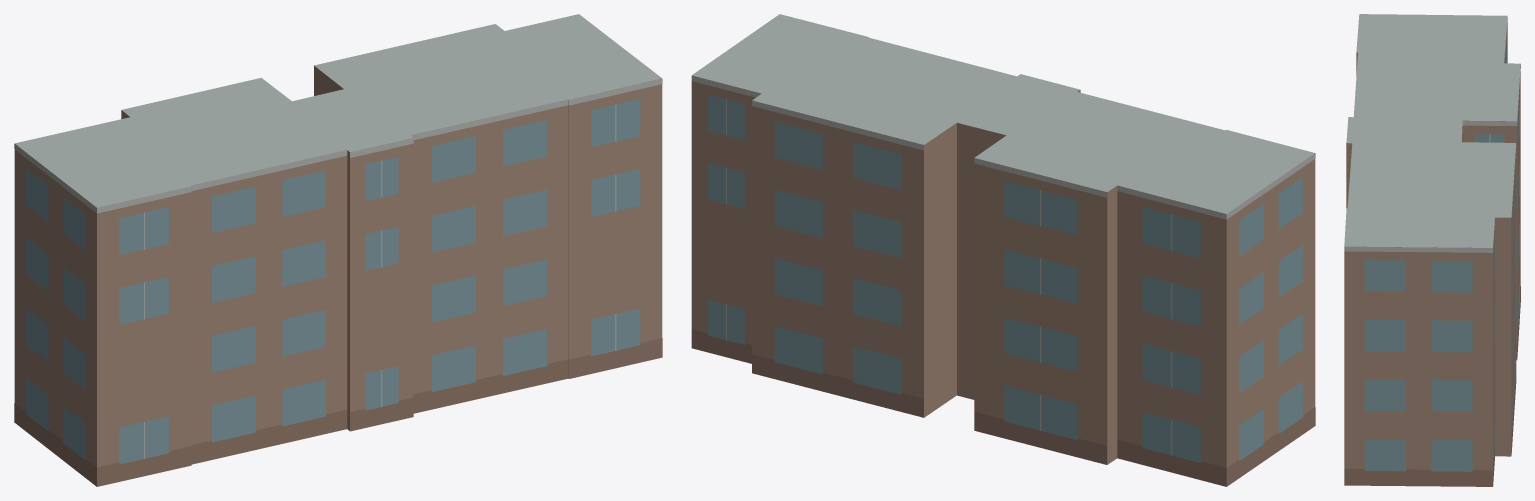
Rendered from survey-upis-32700977.glb.
3 views of the same model, side by side, from view 1: azimuth 30°, elevation 25°; view 2: azimuth 150°, elevation 25°; view 3: azimuth 270°, elevation 25° (orthographic). The views are drawn at different scales.
Visible parts, largest first — view 1: survey-upis-32700977.tmp; view 2: survey-upis-32700977.tmp; view 3: survey-upis-32700977.tmp.
Part boxes in pixels (x1,y1,x2,y2): survey-upis-32700977.tmp: (14, 14, 662, 486); survey-upis-32700977.tmp: (691, 14, 1315, 486); survey-upis-32700977.tmp: (1344, 14, 1520, 486).
Size of the model in its own units: 25.11 by 11.95 by 8.01.
